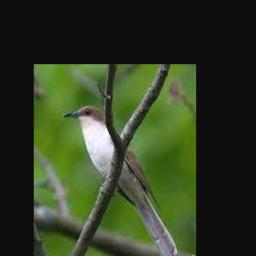Cuckoo: (63, 105, 184, 256)
